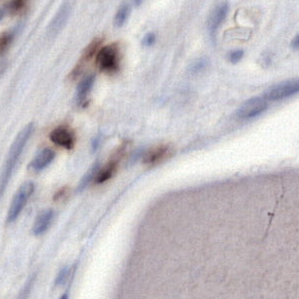Lymphocyte: (46, 122, 79, 151)
